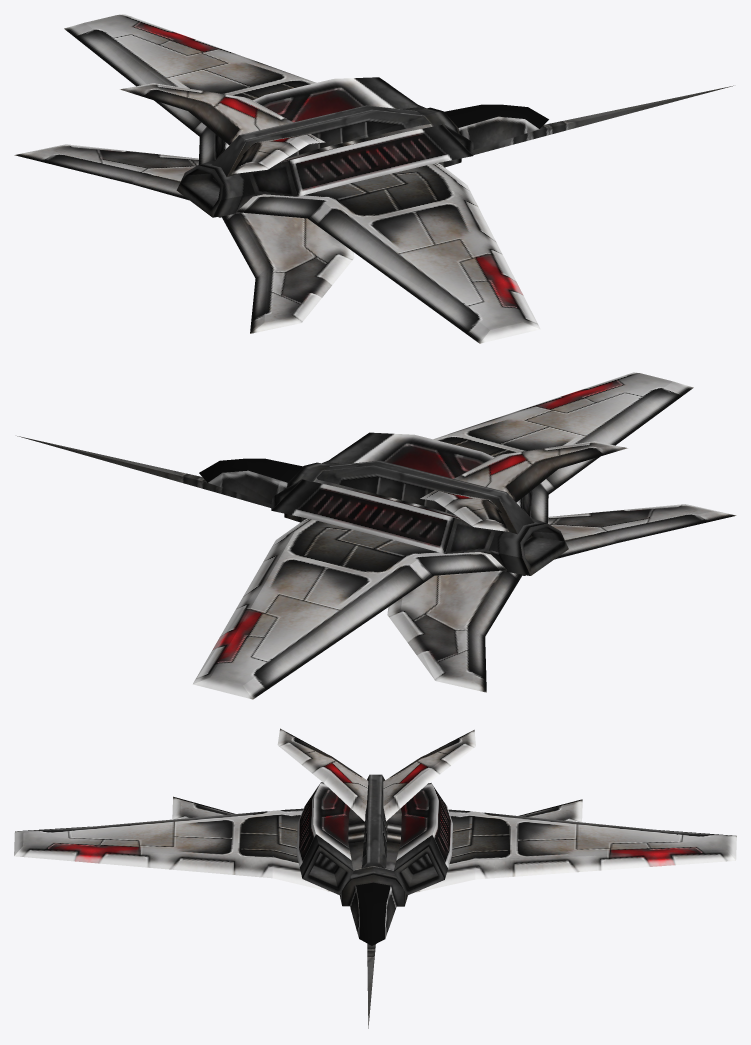
The model's file is fighter_m2.FBX.
The picture shows the model from 3 angles, top to bottom: view 1: azimuth 30°, elevation 25°; view 2: azimuth 150°, elevation 25°; view 3: azimuth 270°, elevation 25°; orthographic projection. The views are drawn at different scales.
Parts seen in each view (by area): view 1: Box05; view 2: Box05; view 3: Box05.
Part boxes in pixels (x1,y1,x2,y2): Box05: [14, 14, 733, 343]; Box05: [17, 372, 736, 699]; Box05: [14, 728, 736, 1028].
Size of the model in its own units: 2592 by 438 by 3184.
1 material, 1 textured.
